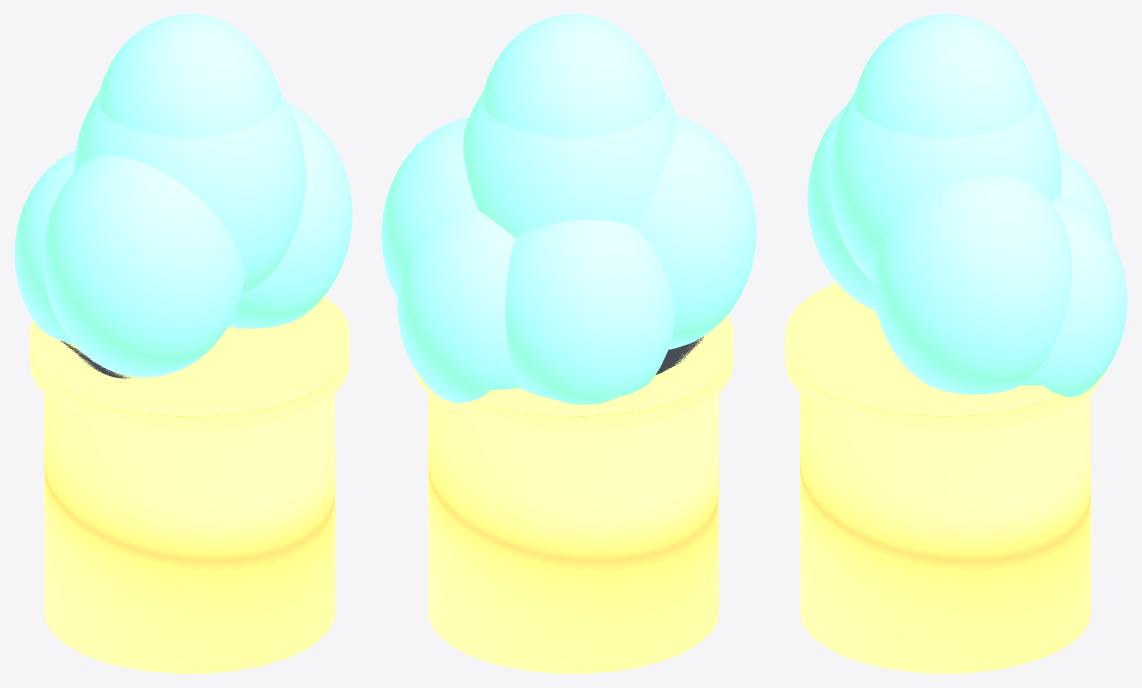
The model's file is plant.glb.
The picture shows the model from 3 angles, left to right: view 1: azimuth 30°, elevation 25°; view 2: azimuth 150°, elevation 25°; view 3: azimuth 270°, elevation 25°; orthographic projection.
Parts seen in each view (by area): view 1: plant_pot, plant_leaf_2, plant_pot_rim, plant_leaf_0, plant_leaf_5, plant_leaf_1, plant_leaf_4; view 2: plant_pot, plant_leaf_4, plant_leaf_0, plant_leaf_3, plant_leaf_5, plant_leaf_2, plant_pot_rim, plant_leaf_1, plant_soil; view 3: plant_pot, plant_leaf_1, plant_pot_rim, plant_leaf_0, plant_leaf_5, plant_leaf_3, plant_leaf_2, plant_leaf_4.
Boxes of the visible parts, bbox=[...] form: plant_pot: bbox=[44, 393, 334, 673]; plant_leaf_2: bbox=[42, 155, 244, 377]; plant_pot_rim: bbox=[29, 296, 349, 432]; plant_leaf_0: bbox=[73, 92, 305, 298]; plant_leaf_5: bbox=[98, 14, 281, 137]; plant_leaf_1: bbox=[228, 103, 352, 328]; plant_leaf_4: bbox=[14, 150, 75, 344]; plant_pot: bbox=[428, 393, 718, 673]; plant_leaf_4: bbox=[505, 220, 675, 404]; plant_leaf_0: bbox=[463, 92, 678, 238]; plant_leaf_3: bbox=[397, 210, 519, 403]; plant_leaf_5: bbox=[482, 14, 664, 137]; plant_leaf_2: bbox=[637, 116, 756, 349]; plant_pot_rim: bbox=[413, 314, 733, 432]; plant_leaf_1: bbox=[381, 117, 477, 298]; plant_soil: bbox=[656, 336, 703, 374]; plant_pot: bbox=[800, 393, 1090, 673]; plant_leaf_1: bbox=[872, 176, 1072, 394]; plant_pot_rim: bbox=[785, 283, 1103, 432]; plant_leaf_0: bbox=[829, 92, 1061, 282]; plant_leaf_5: bbox=[854, 14, 1037, 137]; plant_leaf_3: bbox=[1021, 195, 1127, 396]; plant_leaf_2: bbox=[807, 106, 876, 311]; plant_leaf_4: bbox=[1059, 148, 1112, 241].
Size of what is drawn, in the model's own units: 0.5 by 0.896 by 0.47.
